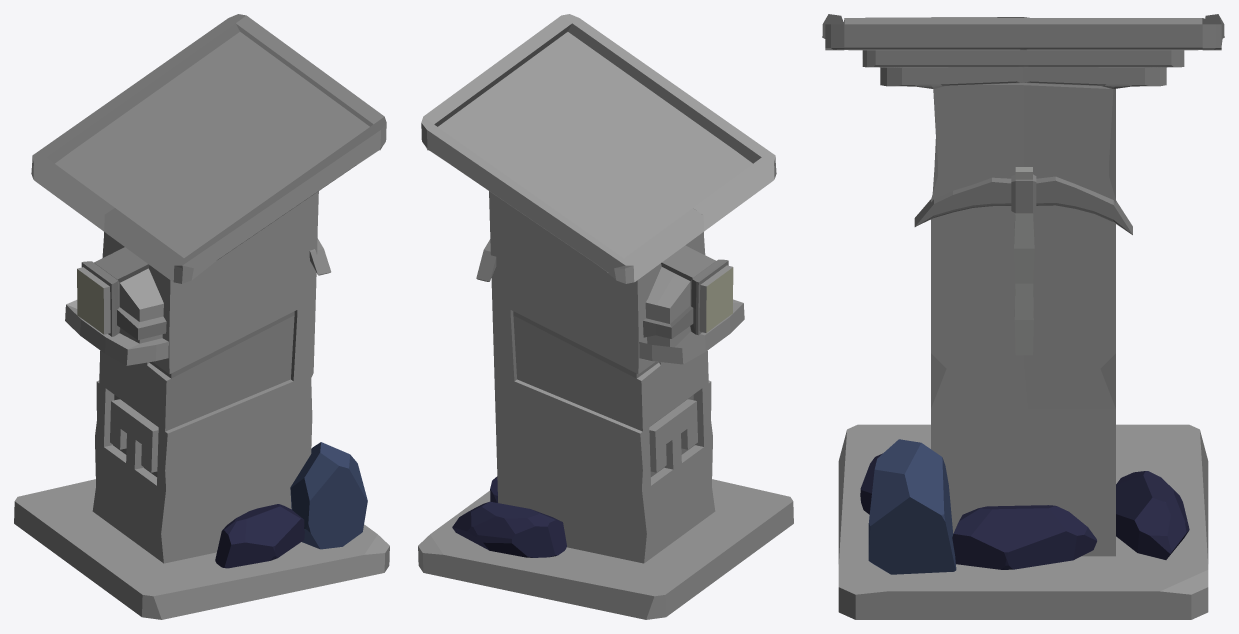
Rendered from bancada de puzzle.fbx.
3 renders of one model, left to right at view 1: azimuth 30°, elevation 25°; view 2: azimuth 150°, elevation 25°; view 3: azimuth 270°, elevation 25°, orthographic. The views are drawn at different scales.
Parts seen in each view (by area): view 1: base, pedras, adornos, luz capacete; view 2: base, adornos, pedras, luz capacete; view 3: base, pedras, adornos.
Boxes of the visible parts, <box> form: base: <box>14,14,389,619</box>; pedras: <box>215,442,367,568</box>; adornos: <box>65,238,331,365</box>; luz capacete: <box>77,267,110,334</box>; base: <box>418,14,793,619</box>; adornos: <box>476,239,744,364</box>; pedras: <box>452,476,566,557</box>; luz capacete: <box>699,265,733,332</box>; base: <box>822,14,1224,619</box>; pedras: <box>860,439,1189,574</box>; adornos: <box>914,167,1132,355</box>.
Size of the model in its own units: 840 by 1474 by 910.
